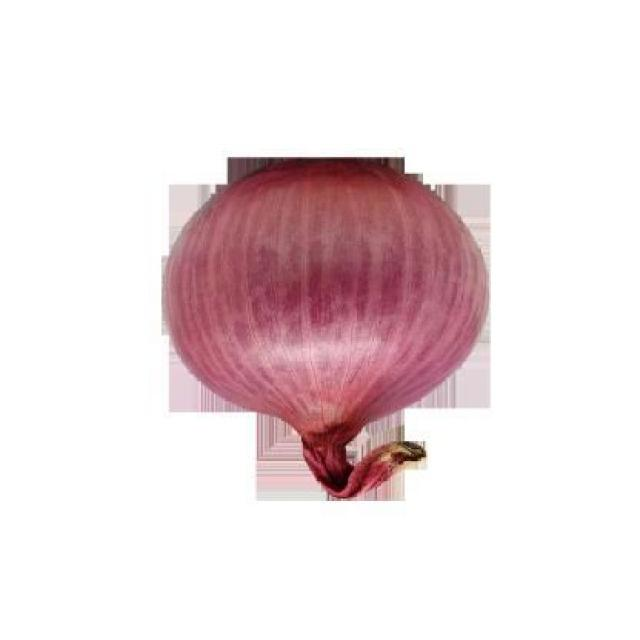onion: (160, 161, 492, 493)
